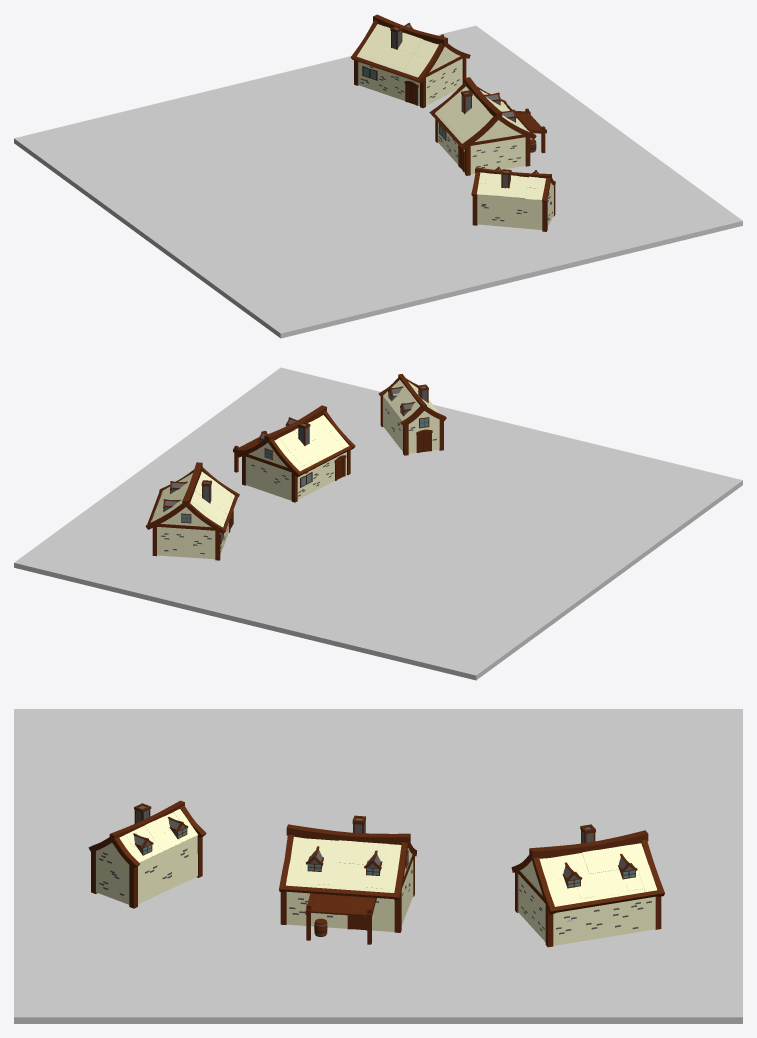
File: environment blockout.fbx
3 views of the same model, one above another, from view 1: azimuth 30°, elevation 25°; view 2: azimuth 150°, elevation 25°; view 3: azimuth 270°, elevation 25° (orthographic). The views are drawn at different scales.
Visible parts, largest first — view 1: Cube.201, Cube.033, Cube.390, Cube.019, Cube.184; view 2: Cube.201, Cube.390, Cube.033, Cube.019, Cube.400; view 3: Cube.201, Cube.033, Cube.390, Cube.019, Cube.489, Cube.400, Cube.184, Cube.399, Cube.183, Cube.028.
Part boxes in pixels (x1,y1,x2,y2): Cube.201: (14,25,742,338); Cube.033: (357,24,462,105); Cube.390: (435,86,529,174); Cube.019: (477,172,553,229); Cube.184: (373,14,447,45); Cube.201: (14,367,742,680); Cube.390: (246,415,349,500); Cube.033: (151,471,234,559); Cube.019: (383,380,439,453); Cube.400: (264,405,326,442); Cube.201: (14,709,742,1023); Cube.033: (518,843,657,945); Cube.390: (286,836,413,931); Cube.019: (96,809,197,904); Cube.489: (305,893,376,944); Cube.400: (286,824,410,844); Cube.184: (529,830,648,859); Cube.399: (285,885,394,898); Cube.183: (555,890,658,912); Cube.028: (109,800,184,840).
Size of the model in its own units: 10394 by 1659 by 10394.
